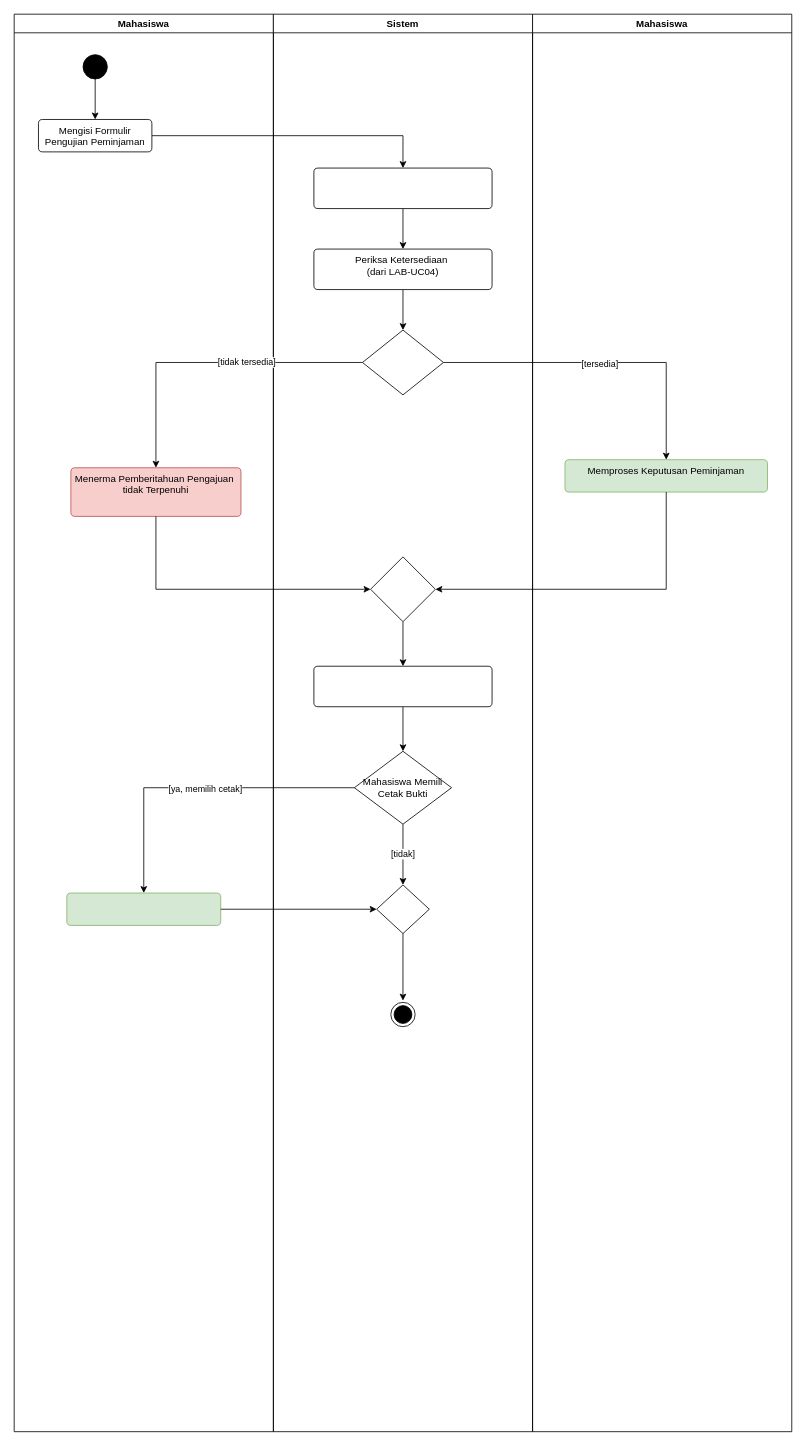
Some shapes in this 806 by 1446 pixel diagram are drawn without their labels. The shapes that lost their labels are listed below. From the top down, each one's centre as x and y in pixels, then its label:
At (x=402, y=188): "Menyimpan Data Pengajuan Peminjaman".
At (x=402, y=362): "Peralatan tersedia?".
At (x=402, y=686): "Mencatat Hasil Akhir Pengajuan".
At (x=143, y=908): "Cetaak Bukti Pengajuan (dari LAB-UC05".
